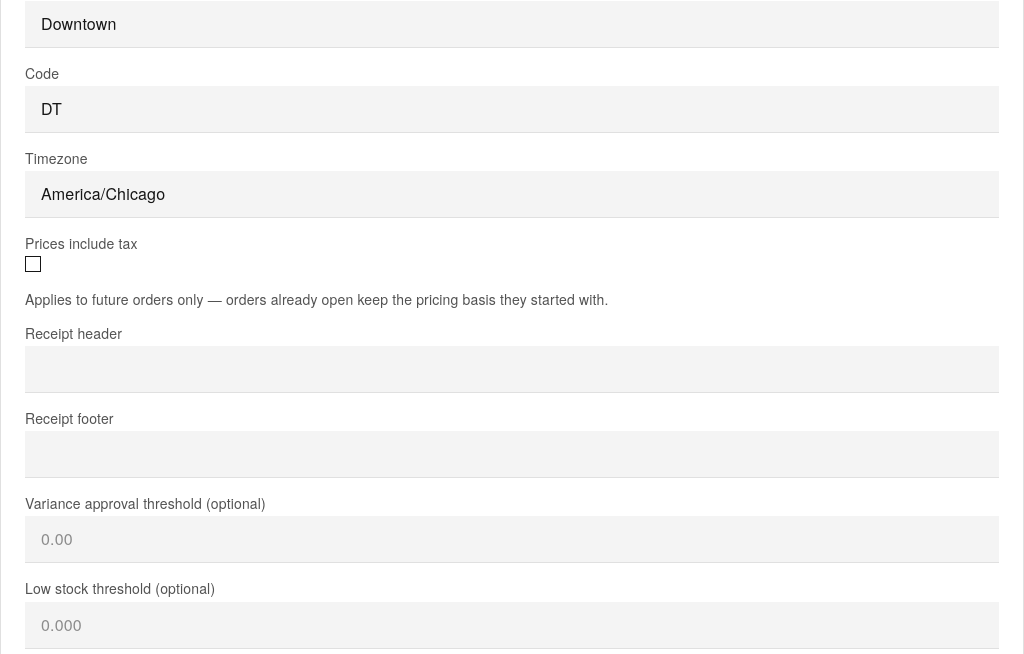
Scenario: LocationEditor › rejects a timezone not on the IANA list instead of silently saving it
In the field labelled "Timezone": coordinates (512, 195) [25,171,999,218], type "Nowhere/Imaginary"
(page scrolled)
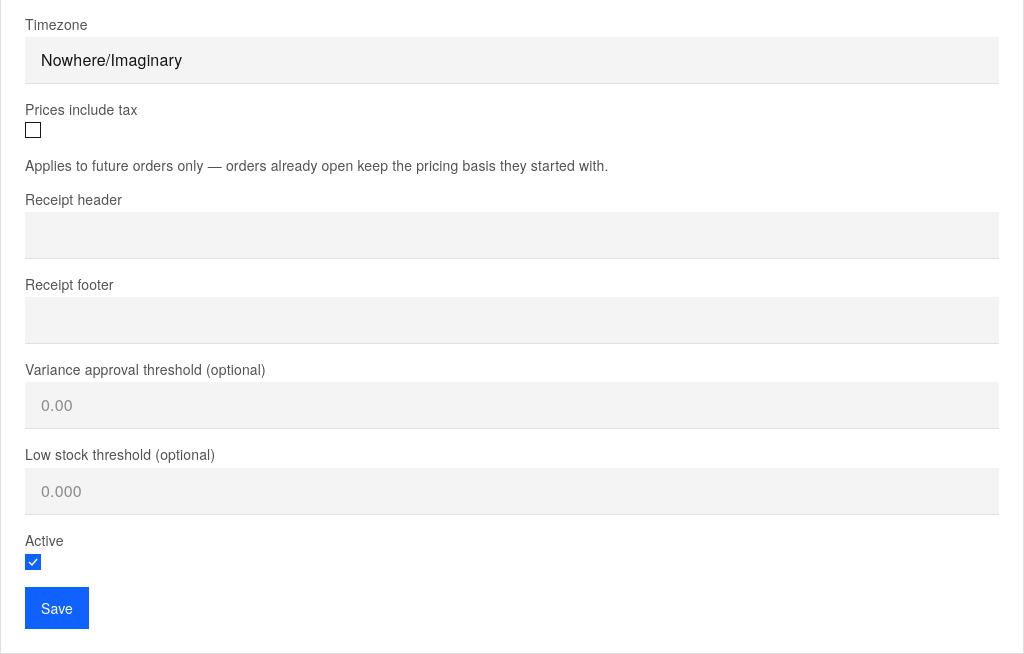
Click the button "Save": coordinates (57, 608) [25,587,89,629]
(page scrolled)
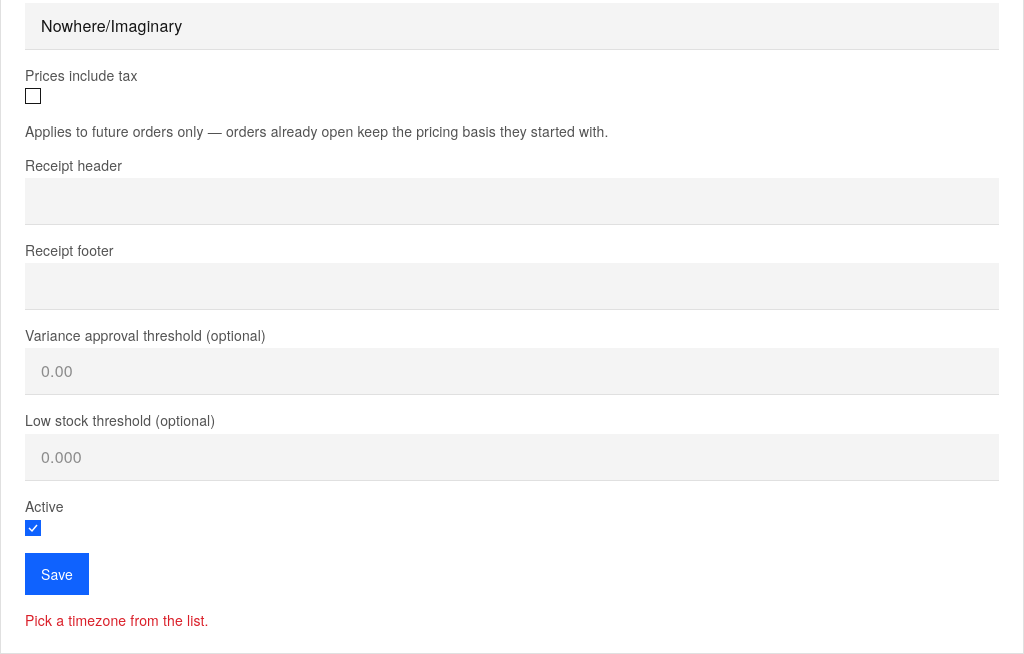
Result: the text "Pick a timezone from the list." is shown at [25,610,209,630]
